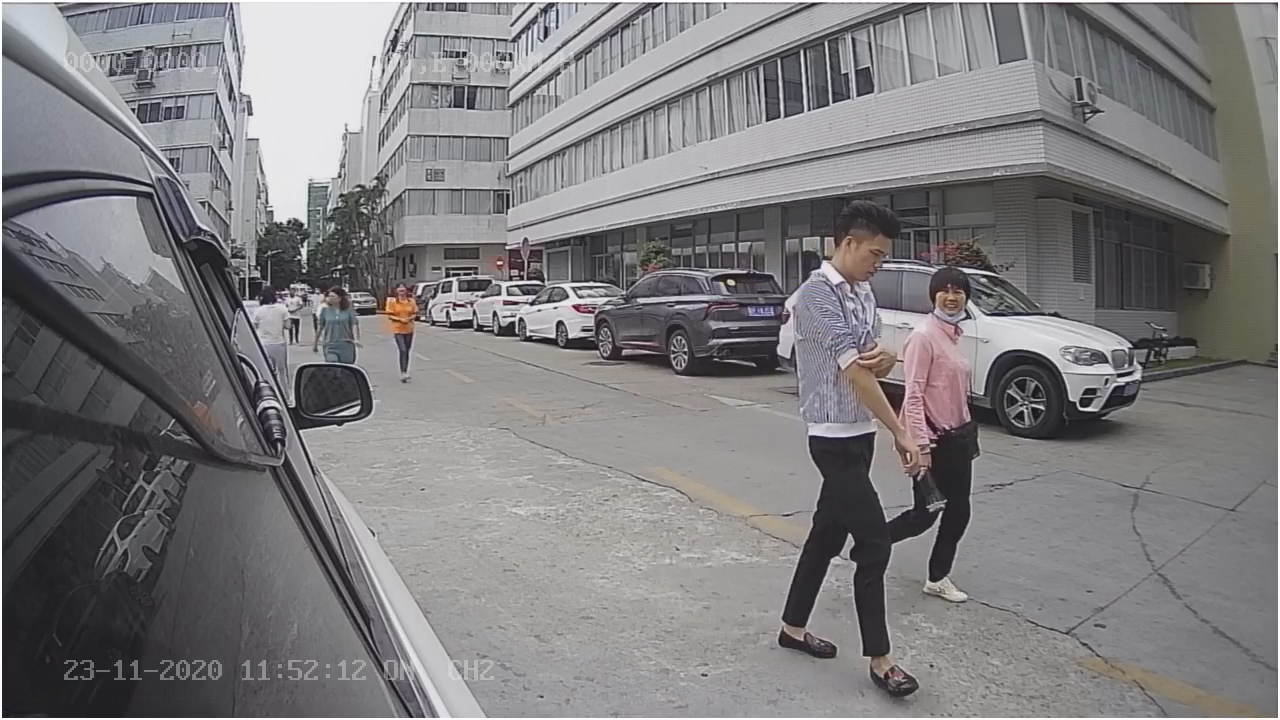person: (757, 197, 958, 694)
